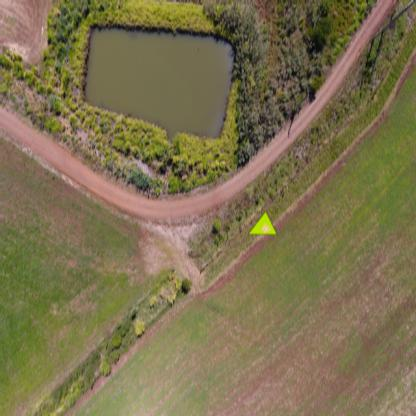W: (262, 222, 272, 236)
triangle: (247, 210, 278, 236)
